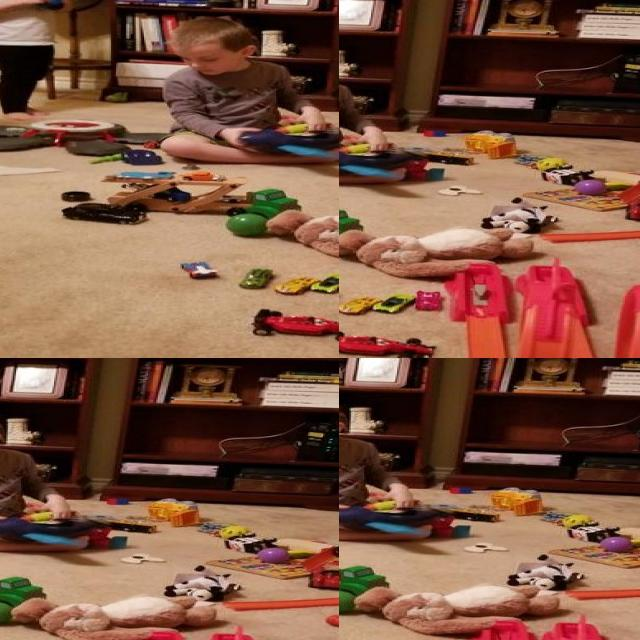toy: (339, 0, 640, 276), (71, 97, 339, 261), (373, 577, 549, 627), (234, 438, 339, 491), (192, 476, 288, 504), (508, 560, 589, 592), (489, 489, 542, 517), (229, 417, 300, 436), (247, 0, 329, 12), (560, 523, 615, 539), (461, 540, 504, 555), (224, 420, 255, 435), (339, 589, 357, 612), (564, 514, 593, 528), (302, 430, 331, 439)
